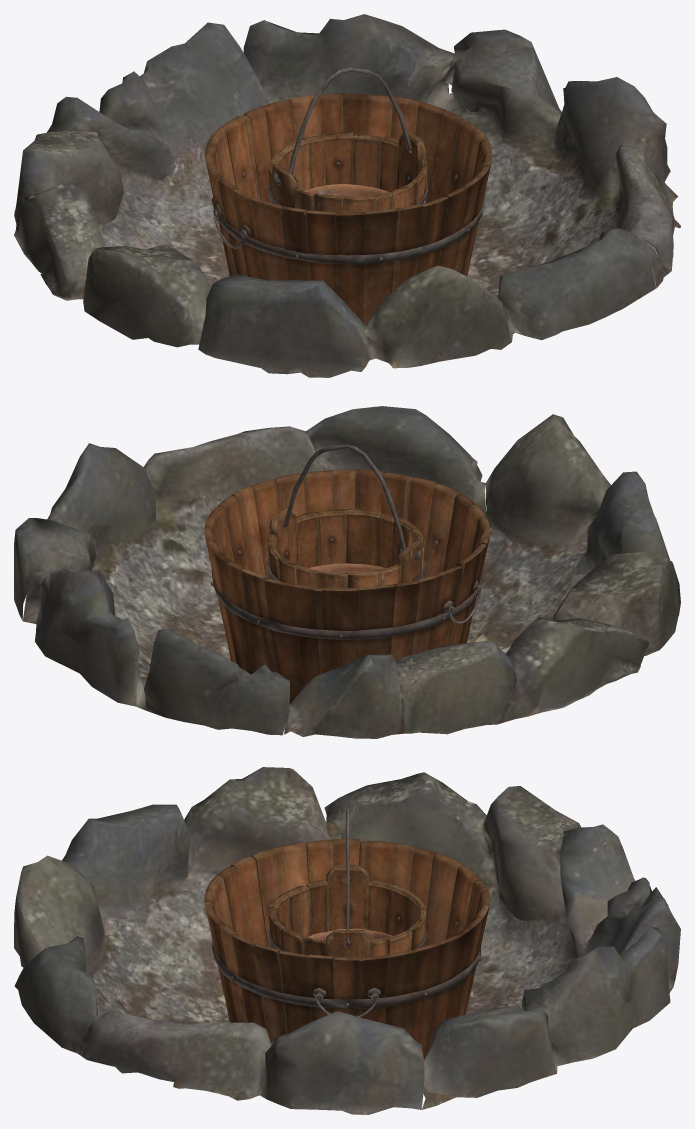
The model's file is objetos_ph.glb.
The picture shows the model from 3 angles, top to bottom: view 1: azimuth 30°, elevation 25°; view 2: azimuth 150°, elevation 25°; view 3: azimuth 270°, elevation 25°; orthographic projection.
Parts seen in each view (by area): view 1: O_hogar, O_tina, O_cubo, O_olla; view 2: O_hogar, O_tina, O_cubo, O_olla; view 3: O_hogar, O_tina, O_cubo.
Part boxes in pixels (x1,y1,x2,y2): O_hogar: (14,14,680,377); O_tina: (204,93,492,325); O_cubo: (268,67,427,213); O_olla: (304,184,389,196); O_hogar: (14,406,680,738); O_tina: (204,469,490,703); O_cubo: (266,444,425,588); O_olla: (308,563,385,573); O_hogar: (14,767,680,1114); O_tina: (204,838,490,1059); O_cubo: (268,809,426,958).
Bounding box in the file's own units: 1.45 × 0.5506 × 1.43.
15 materials, 15 textured.
